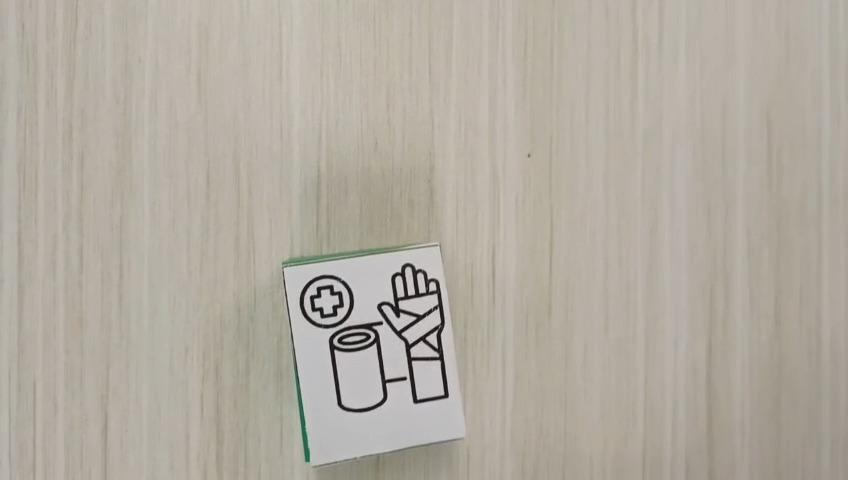Bandages: (281, 241, 466, 466)
